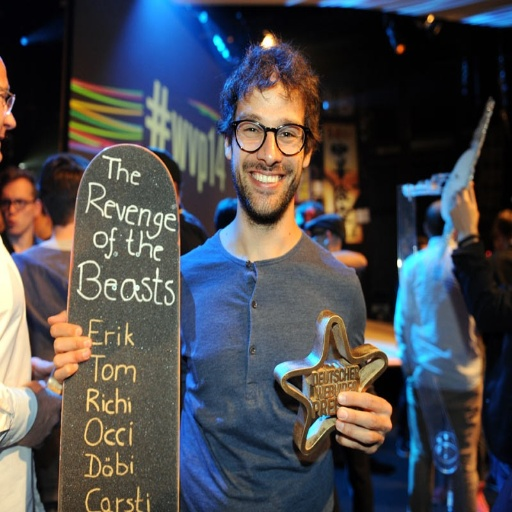hand: (334, 390, 392, 456), (42, 308, 83, 392), (23, 379, 60, 449), (448, 182, 478, 235)
